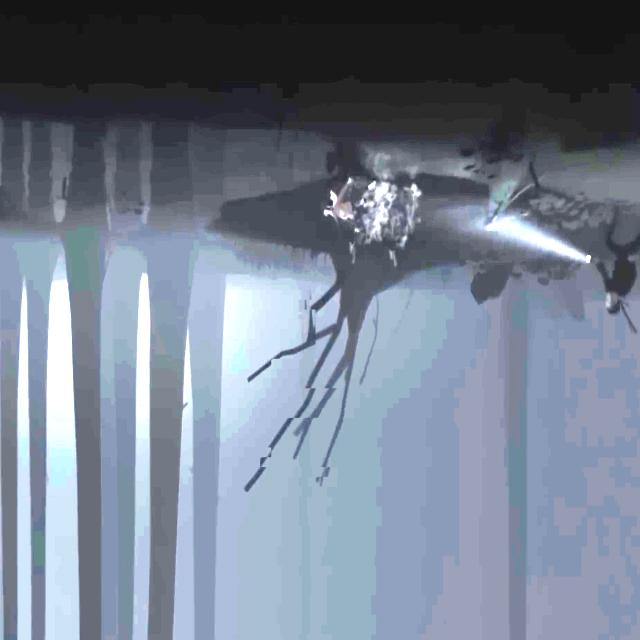boy: (324, 177, 376, 223)
human: (586, 202, 640, 315)
